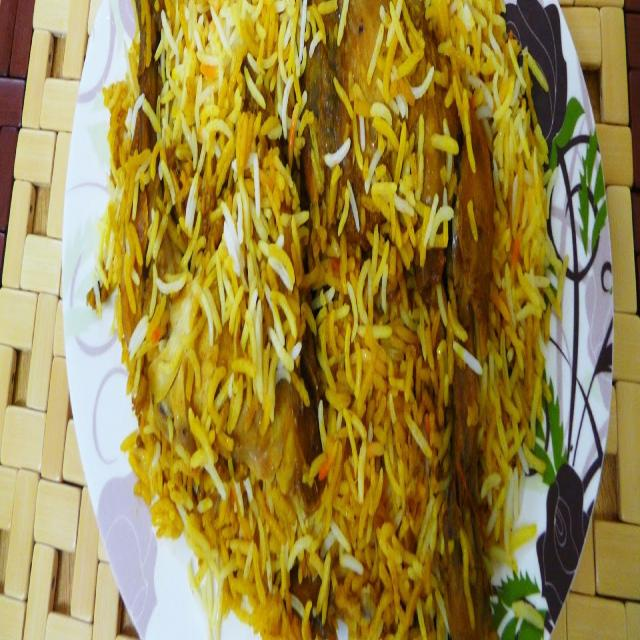Biryani: (87, 0, 565, 640)
